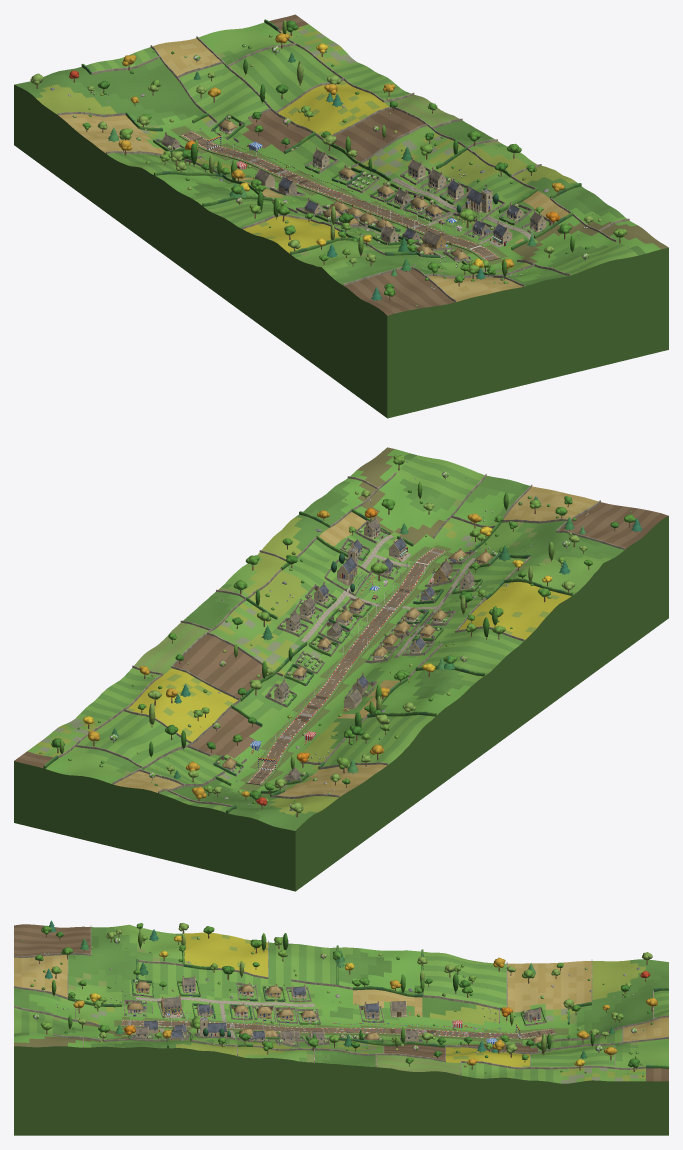
3 renders of one model, top to bottom at view 1: azimuth 30°, elevation 25°; view 2: azimuth 150°, elevation 25°; view 3: azimuth 270°, elevation 25°, orthographic. The views are drawn at different scales.
Parts seen in each view (by area): view 1: grass, buildings, leafy trees, bushes, rocks, road, autumn trees, hay, pines, markings, flags, trunks; view 2: grass, buildings, leafy trees, bushes, rocks, road, hay, autumn trees, pines, markings, trunks; view 3: grass, buildings, leafy trees, bushes, rocks, road, autumn trees, hay, pines, trunks, markings, flags.
Part boxes in pixels (bbox=[...]): grass: bbox=[14, 14, 668, 418]; buildings: bbox=[153, 114, 554, 262]; leafy trees: bbox=[30, 20, 627, 296]; bushes: bbox=[51, 19, 601, 306]; rocks: bbox=[50, 29, 629, 302]; road: bbox=[181, 131, 499, 261]; autumn trees: bbox=[69, 33, 564, 268]; hay: bbox=[179, 130, 501, 259]; pines: bbox=[108, 53, 536, 300]; markings: bbox=[182, 131, 498, 260]; flags: bbox=[220, 144, 469, 236]; trunks: bbox=[36, 32, 620, 300]; grass: bbox=[14, 447, 668, 891]; buildings: bbox=[213, 516, 500, 782]; leafy trees: bbox=[51, 455, 635, 813]; bushes: bbox=[39, 477, 631, 813]; rocks: bbox=[58, 461, 625, 810]; road: bbox=[247, 548, 444, 785]; hay: bbox=[245, 547, 448, 785]; autumn trees: bbox=[83, 508, 552, 805]; pines: bbox=[111, 496, 642, 778]; markings: bbox=[248, 548, 445, 784]; trunks: bbox=[57, 465, 637, 817]; grass: bbox=[14, 924, 668, 1135]; buildings: bbox=[124, 975, 551, 1047]; leafy trees: bbox=[33, 923, 652, 1067]; bushes: bbox=[21, 931, 668, 1076]; rocks: bbox=[14, 925, 668, 1075]; road: bbox=[121, 1020, 555, 1038]; autumn trees: bbox=[73, 935, 657, 1066]; hay: bbox=[121, 1019, 556, 1040]; pines: bbox=[45, 920, 614, 1058]; trunks: bbox=[36, 929, 652, 1071]; markings: bbox=[122, 1020, 554, 1038]; flags: bbox=[168, 1012, 503, 1036].
Bounding box in the file's own units: 186 × 74.33 × 425.
